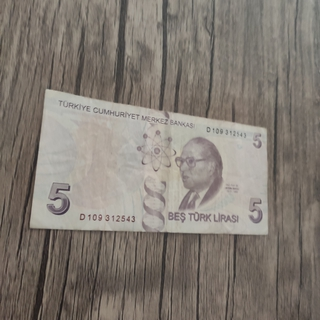5TLBack: (28, 87, 269, 236)
